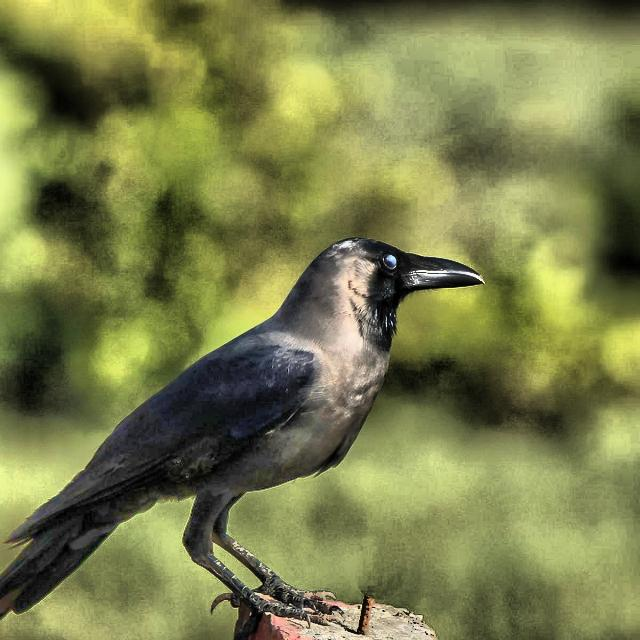crow: (0, 219, 561, 640)
